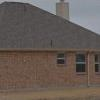Chimney: (49, 1, 78, 19)
